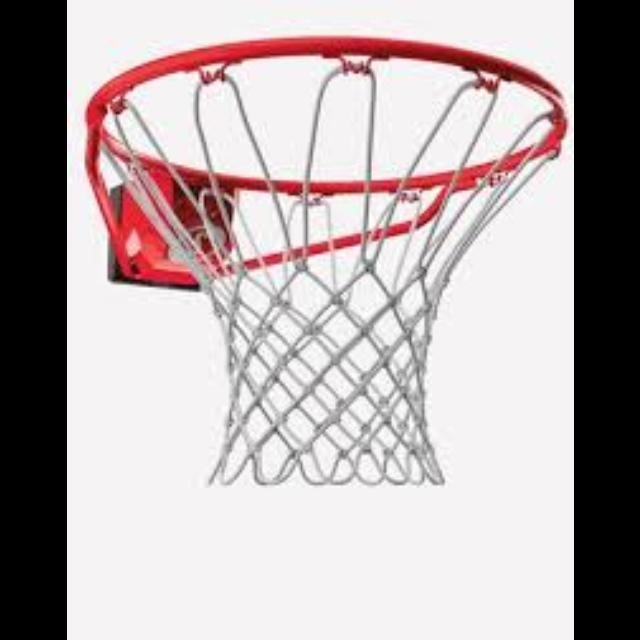rim: (87, 37, 569, 485)
